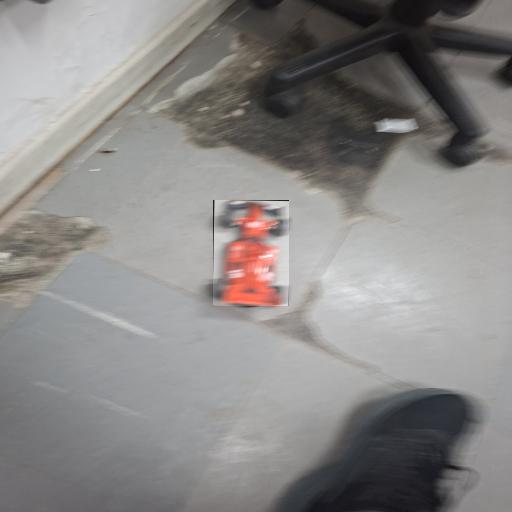carro: (213, 201, 288, 305)
